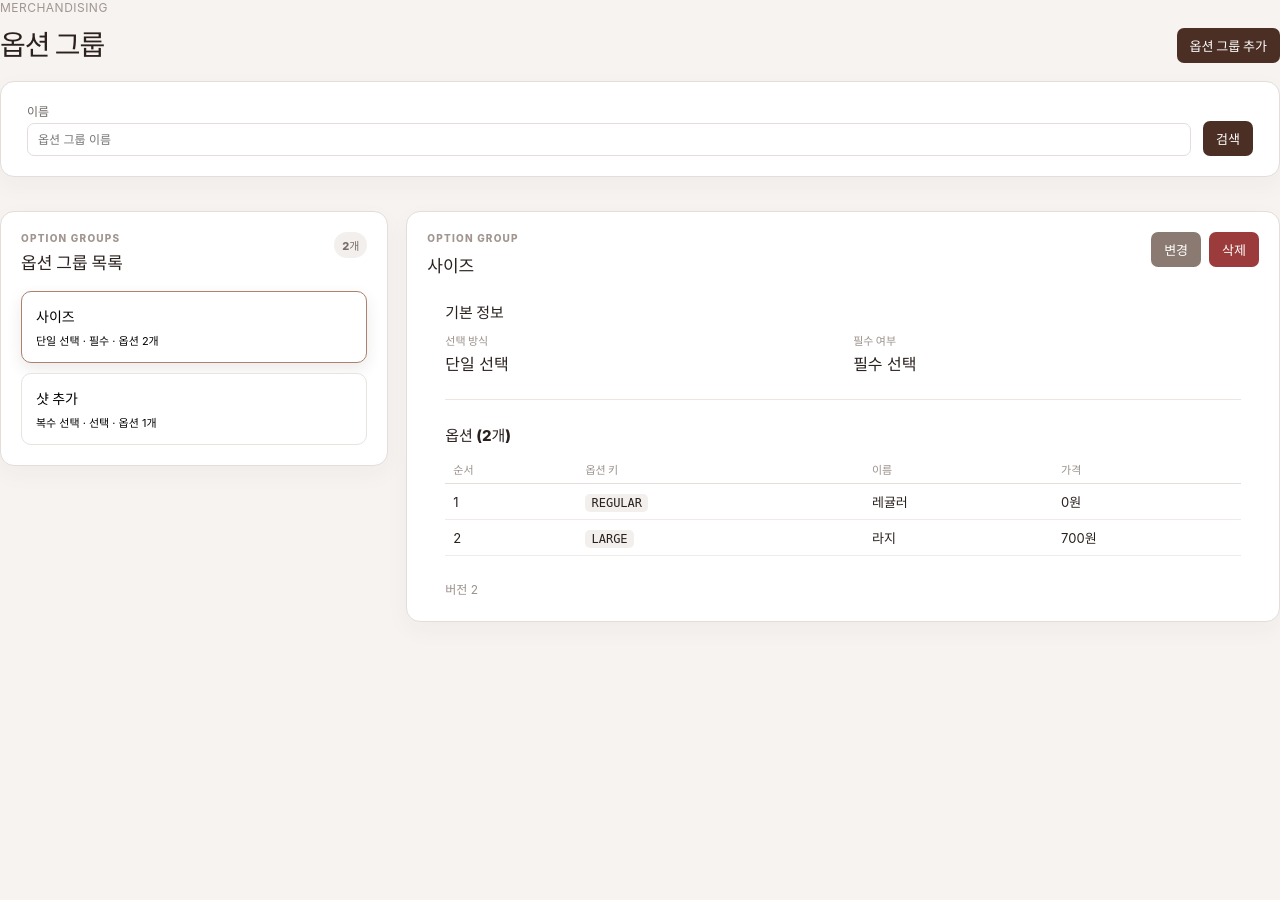
Test: OptionGroupsPage › 변경은 모달에서 현재 값을 채워 연다
Click the button "변경" at (1176, 250), box [1151,232,1201,267]
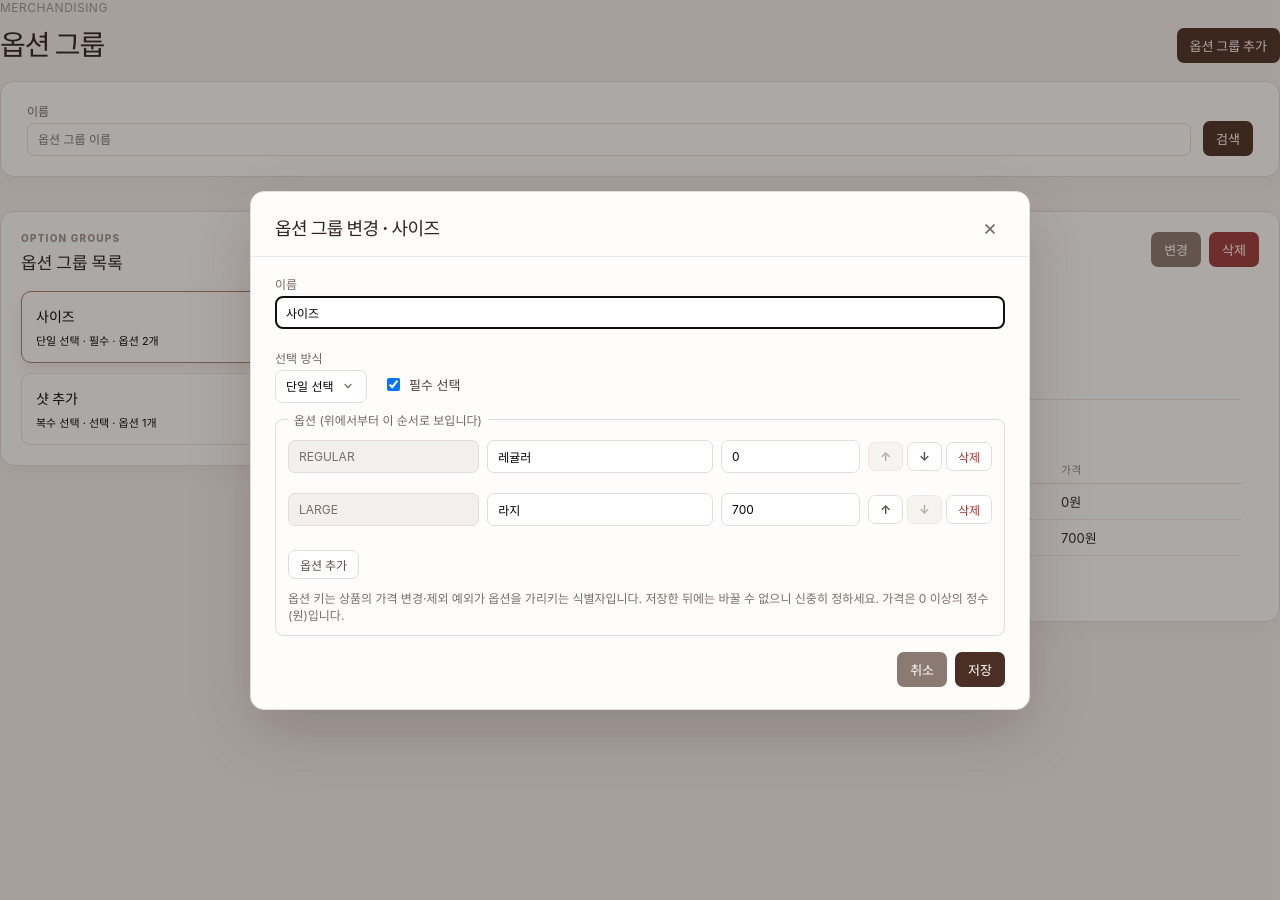
Expected: the field labelled "이름" holds "사이즈", [275,296,1005,328]
Expected: the field named "옵션 2 키" holds "LARGE", [288,492,479,526]
